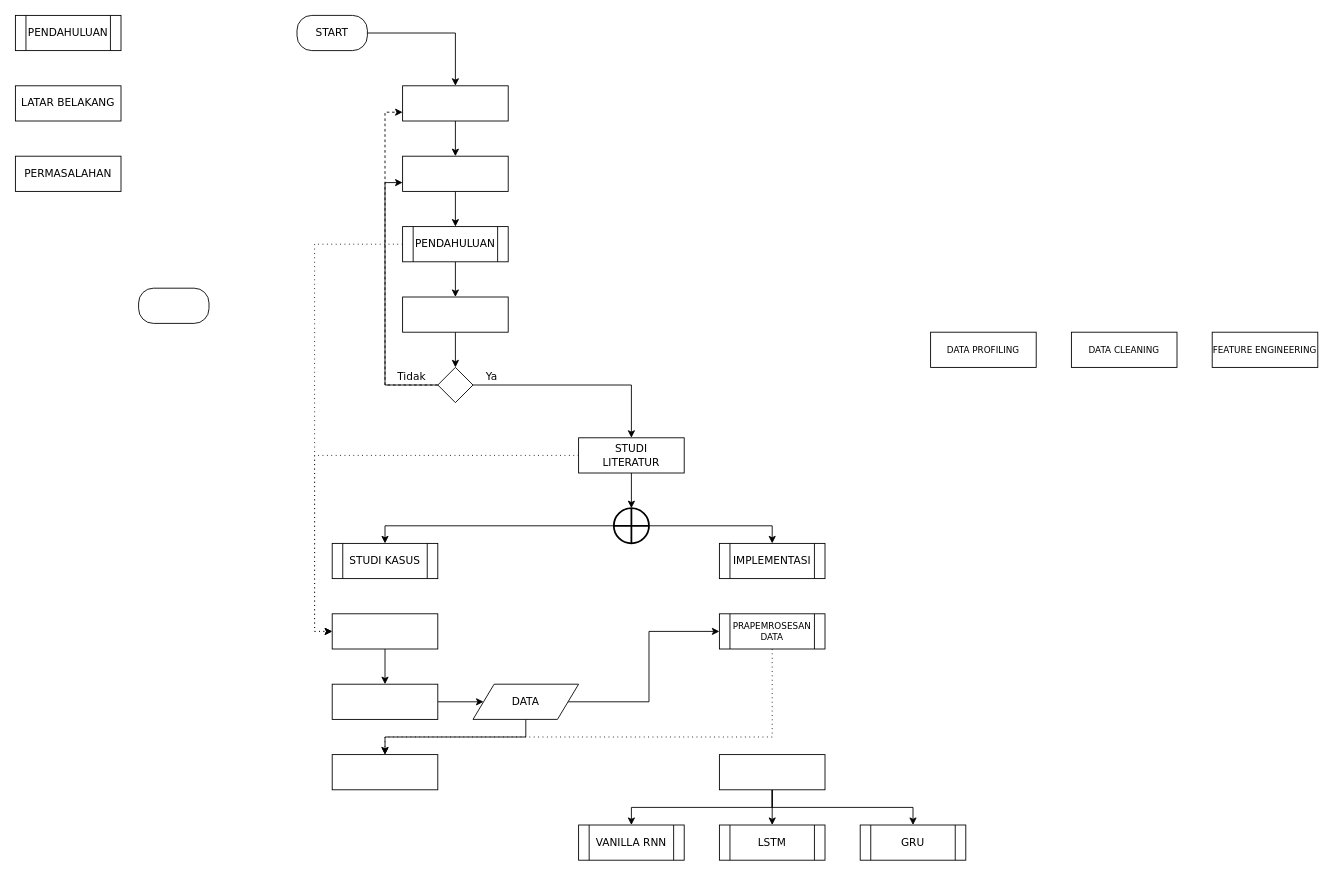
Some shapes in this 1333 by 876 pixel diagram are drawn without their labels. The shapes that lost their labels are listed below. From the top down, each one's centre as x and y in pixels, then its label:
At point (455, 103): "PENENTUAN TOPIK".
At point (455, 173): "KAJIAN LITERATUR".
At point (173, 305): "END".
At point (455, 314): "PENDAHULUAN MEMUASKAN?".
At point (384, 631): "LOKASI STUDI KASUS".
At point (384, 701): "AKUISISI DATA".
At point (384, 772): "DESKRIPSI STUDI KASUS".
At point (772, 772): "PEMODELAN RNN".
